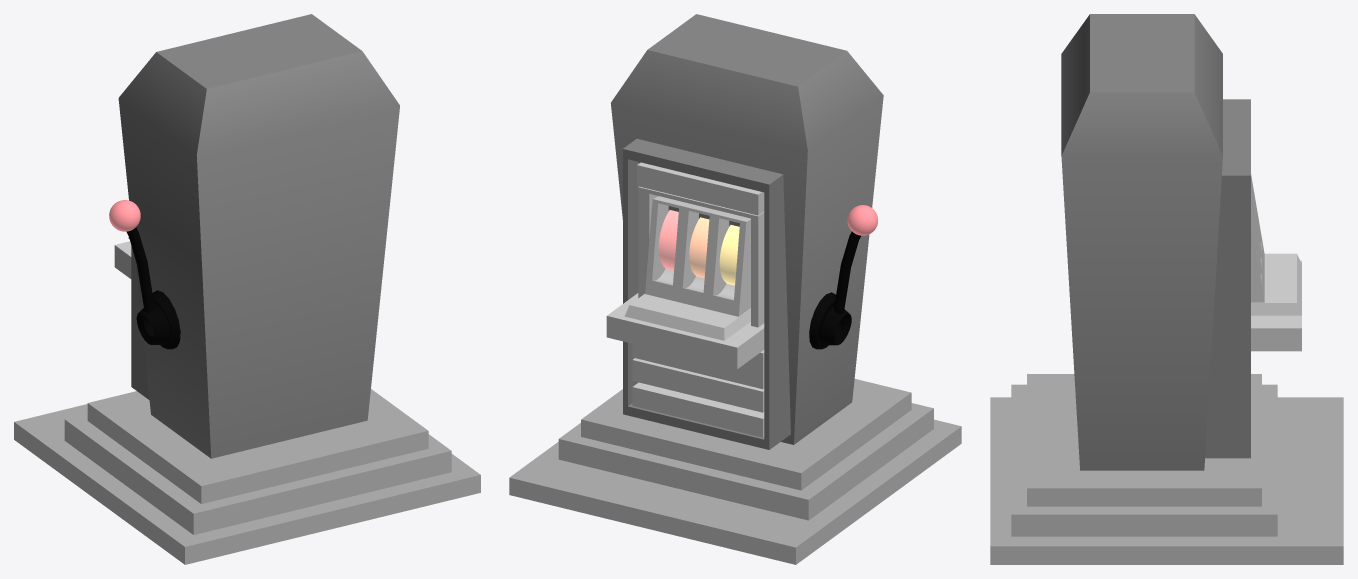
The model's file is pachinko-small.glb.
3 views of the same model, side by side, from view 1: azimuth 30°, elevation 25°; view 2: azimuth 150°, elevation 25°; view 3: azimuth 270°, elevation 25° (orthographic). The views are drawn at different scales.
Parts seen in each view (by area): view 1: Cube.001, Cube.2, Cube.3, Cube.4, Boolean.004, Tube.2, Boolean.1, Boolean, Sphere; view 2: Cube.001, Cube.3, Boolean.004, Cube.2, Cube.4, Boolean.003, Cube.006, Cube.5, Boolean.002, Cube.1, Cube.007, Cube.008 (+8 smaller); view 3: Cube.001, Cube.3, Cube.2, Boolean.004, Cube.4, Cube.008, Cube.006, Boolean.003.
Boxes of the visible parts, x1,y1,x2,y2 form: Cube.001: [118, 14, 399, 458]; Cube.2: [87, 389, 428, 503]; Cube.3: [14, 404, 480, 564]; Cube.4: [64, 413, 451, 534]; Boolean.004: [131, 246, 149, 399]; Tube.2: [126, 227, 154, 312]; Boolean.1: [136, 304, 169, 344]; Boolean: [152, 290, 180, 349]; Sphere: [109, 200, 140, 231]; Cube.001: [611, 14, 883, 444]; Cube.3: [509, 419, 961, 564]; Boolean.004: [623, 139, 790, 449]; Cube.2: [581, 379, 911, 490]; Cube.4: [558, 403, 933, 520]; Boolean.003: [645, 196, 750, 316]; Cube.006: [606, 293, 764, 369]; Cube.5: [632, 382, 764, 437]; Boolean.002: [638, 186, 764, 327]; Cube.1: [637, 162, 764, 215]; Cube.007: [632, 358, 764, 412]; Cube.008: [624, 294, 750, 340]; Cube.001: [1061, 14, 1222, 470]; Cube.3: [990, 397, 1343, 564]; Cube.2: [1027, 374, 1261, 506]; Boolean.004: [1205, 99, 1250, 458]; Cube.4: [1011, 384, 1277, 536]; Cube.008: [1251, 253, 1301, 315]; Cube.006: [1251, 260, 1301, 351]; Boolean.003: [1251, 174, 1264, 302].
Bounding box in the file's own units: 2.94 × 4.03 × 2.95.
